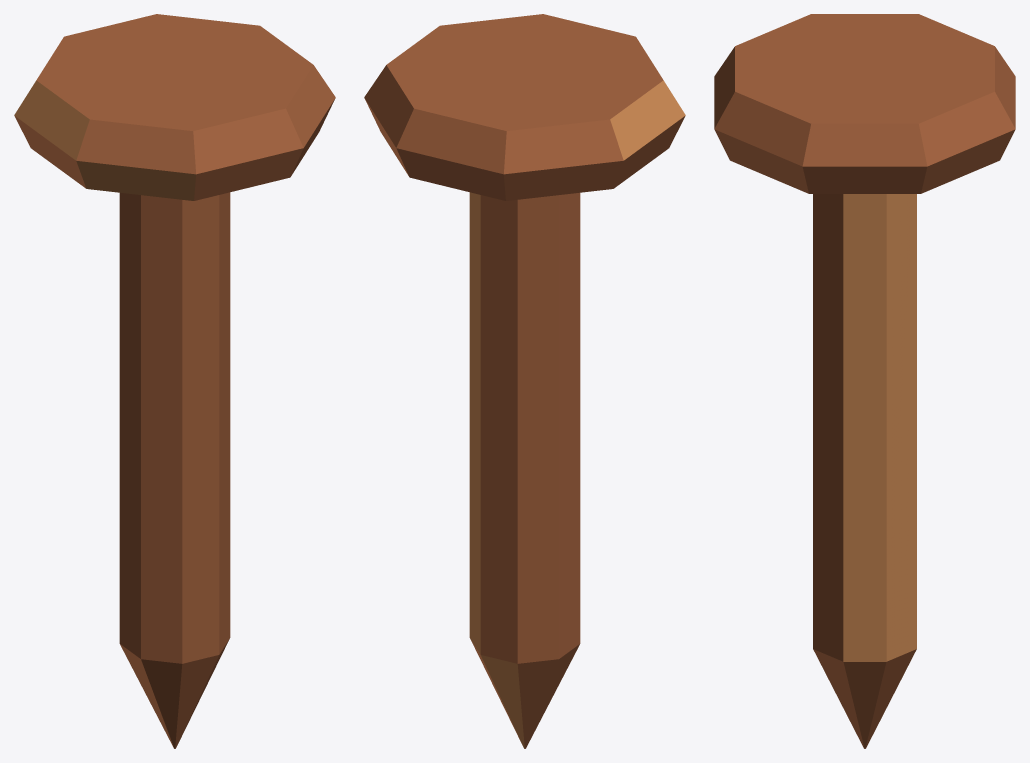
File: Nail_S_Rust.glb
The picture shows the model from 3 angles, left to right: view 1: azimuth 30°, elevation 25°; view 2: azimuth 150°, elevation 25°; view 3: azimuth 270°, elevation 25°; orthographic projection.
Visible parts, largest first — view 1: Nail_S_Rust; view 2: Nail_S_Rust; view 3: Nail_S_Rust.
Boxes of the visible parts, bbox=[...] form: Nail_S_Rust: bbox=[14, 14, 335, 748]; Nail_S_Rust: bbox=[364, 14, 685, 748]; Nail_S_Rust: bbox=[714, 14, 1015, 748].
Bounding box in the file's own units: 0.0322 × 0.08 × 0.0322.
